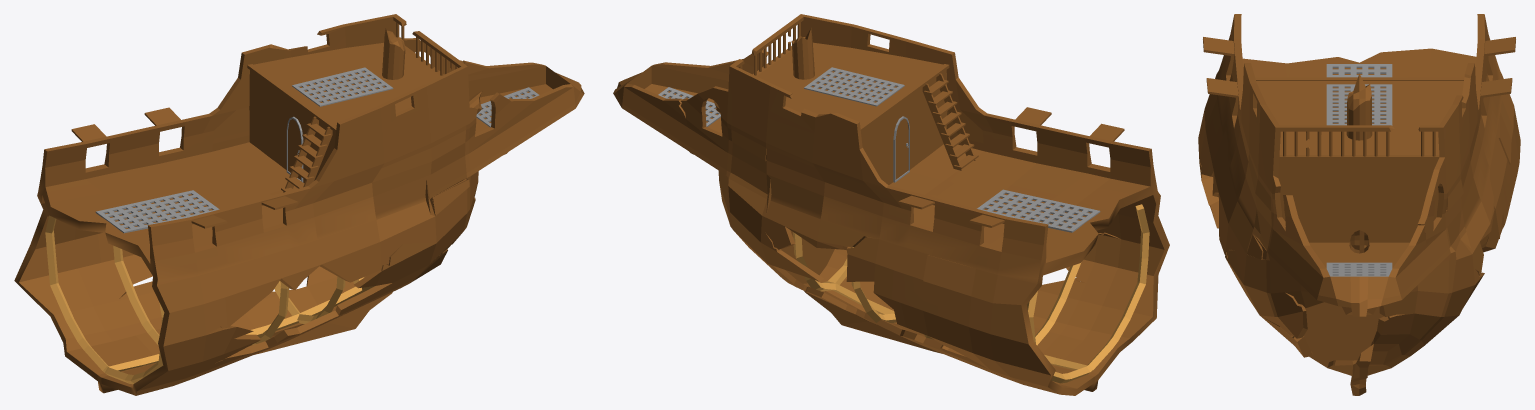
The model's file is SM_Ship_Front.fbx.
3 views of the same model, side by side, from view 1: azimuth 30°, elevation 25°; view 2: azimuth 150°, elevation 25°; view 3: azimuth 270°, elevation 25° (orthographic). The views are drawn at different scales.
Visible parts, largest first — view 1: Ship_Front; view 2: Ship_Front; view 3: Ship_Front.
Part boxes in pixels (box(x1,y1,x2,y2)): Ship_Front: box(14, 14, 584, 395); Ship_Front: box(613, 14, 1169, 395); Ship_Front: box(1198, 14, 1520, 395).
Size of the model in its own units: 117 by 55.44 by 65.65.
